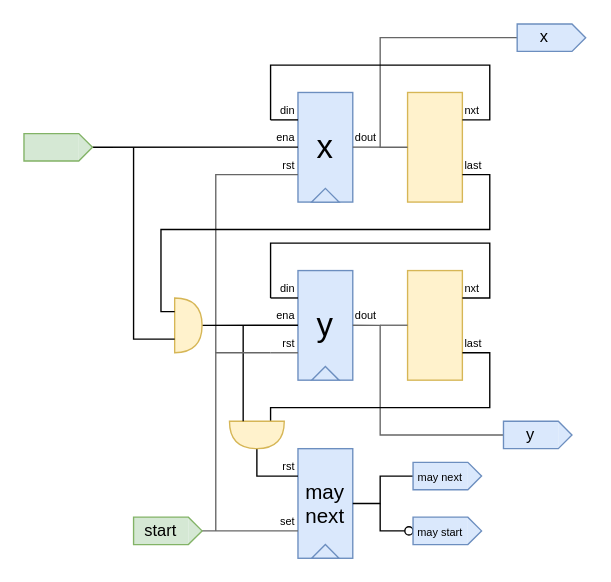
Image size: 611x582. Some labels were removed from this diagram. Each missing label, with the centre of its shape:
+1 %H: the point at 434,324
+1 %W: the point at 434,146
next: the point at 50,146
